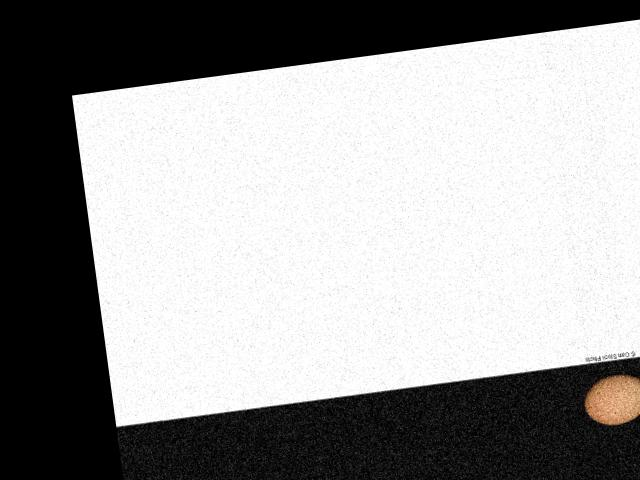egg: (580, 369, 640, 427)
